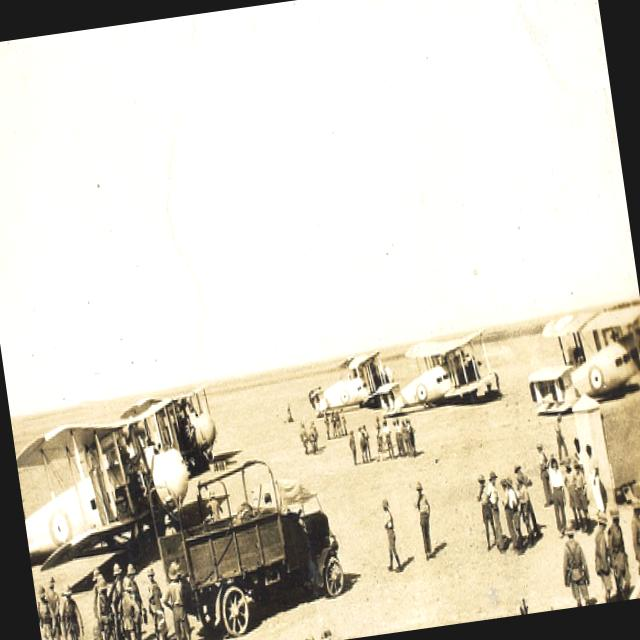Vehicle: (157, 501, 350, 640)
